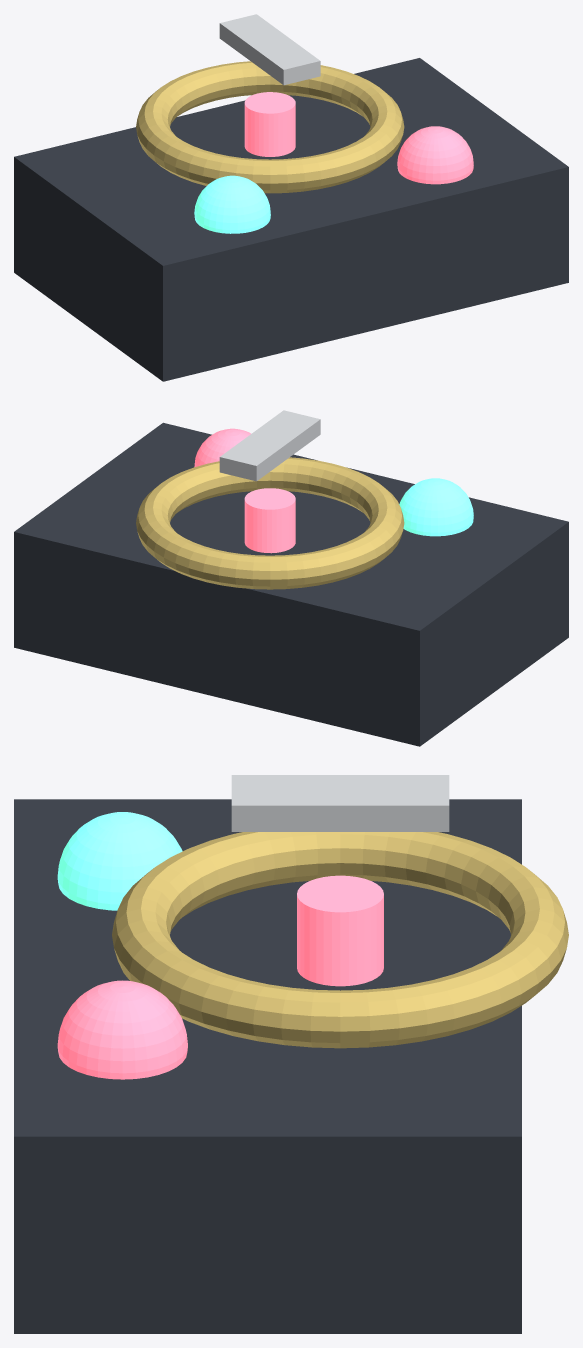
The model's file is halting_inverter.glb.
The picture shows the model from 3 angles, top to bottom: view 1: azimuth 30°, elevation 25°; view 2: azimuth 150°, elevation 25°; view 3: azimuth 270°, elevation 25°; orthographic projection. The views are drawn at different scales.
Parts seen in each view (by area): view 1: HaltOracle_Box, ParadoxMobiusRing, EmergencyBrakeShoe, LoopPredict_Dome, HaltPredict_Dome, ContradictionCore; view 2: HaltOracle_Box, ParadoxMobiusRing, EmergencyBrakeShoe, HaltPredict_Dome, ContradictionCore, LoopPredict_Dome; view 3: HaltOracle_Box, ParadoxMobiusRing, EmergencyBrakeShoe, LoopPredict_Dome, ContradictionCore, HaltPredict_Dome.
Boxes of the visible parts, x1,y1,x2,y2 form: HaltOracle_Box: (14, 58, 568, 381); ParadoxMobiusRing: (136, 61, 404, 193); EmergencyBrakeShoe: (219, 14, 320, 85); LoopPredict_Dome: (397, 126, 473, 184); HaltPredict_Dome: (194, 175, 270, 233); ContradictionCore: (244, 92, 295, 156); HaltOracle_Box: (14, 422, 568, 746); ParadoxMobiusRing: (136, 457, 404, 589); EmergencyBrakeShoe: (219, 410, 320, 481); HaltPredict_Dome: (399, 478, 473, 536); ContradictionCore: (244, 488, 295, 553); LoopPredict_Dome: (194, 428, 250, 467); HaltOracle_Box: (14, 799, 521, 1333); ParadoxMobiusRing: (112, 832, 568, 1048); EmergencyBrakeShoe: (231, 775, 449, 831); LoopPredict_Dome: (57, 980, 187, 1079); ContradictionCore: (297, 875, 383, 986); HaltPredict_Dome: (57, 812, 182, 910).
Bounding box in the file's own units: 2.2 × 1.14 × 1.53.
